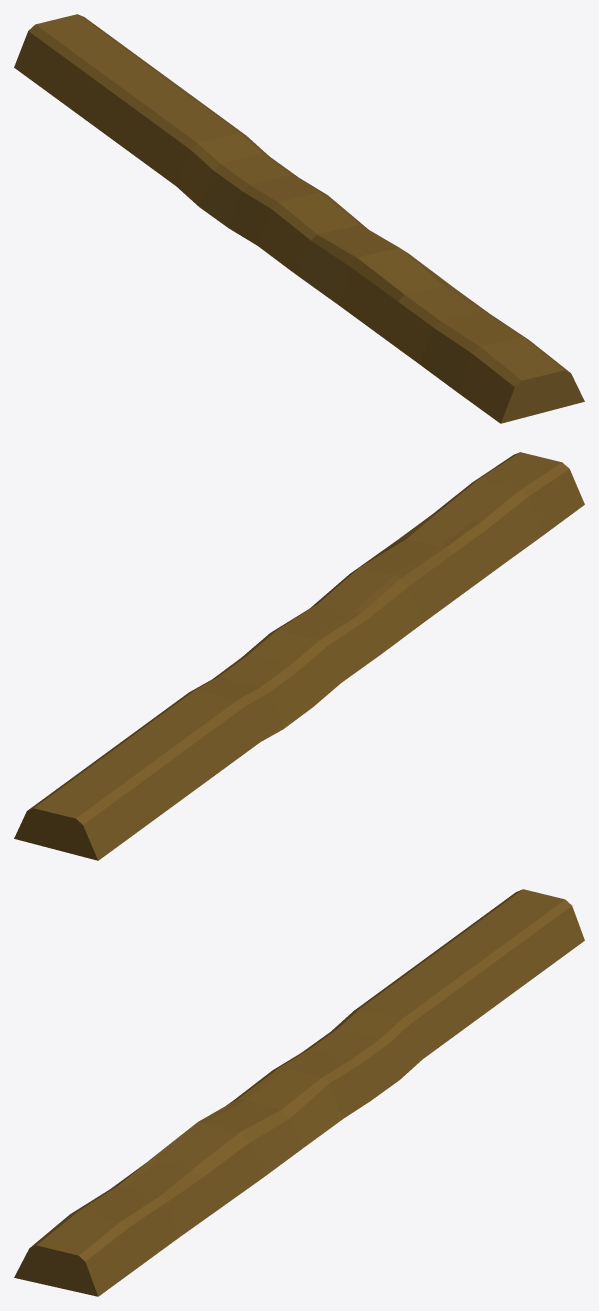
Rendered from SM_Paddies_2.fbx.
3 views of the same model, one above another, from view 1: azimuth 30°, elevation 25°; view 2: azimuth 150°, elevation 25°; view 3: azimuth 330°, elevation 25° (orthographic).
Parts seen in each view (by area): view 1: Paddie.004(not smer knea); view 2: Paddie.004(not smer knea); view 3: Paddie.004(not smer knea).
Boxes of the visible parts, x1=… form: Paddie.004(not smer knea): x1=14, y1=14, x2=584, y2=423; Paddie.004(not smer knea): x1=14, y1=452, x2=584, y2=860; Paddie.004(not smer knea): x1=14, y1=889, x2=584, y2=1296.
Size of the model in its own units: 103 by 52.11 by 1001.
